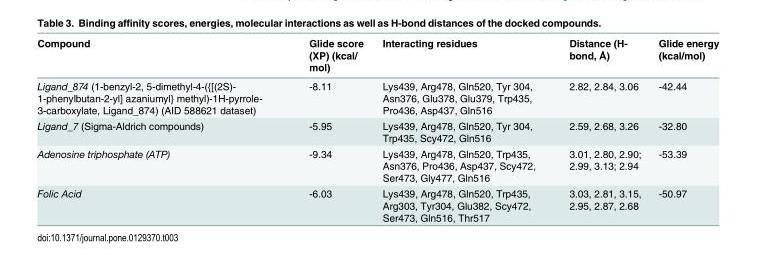table: (36, 36, 718, 222)
table column: (36, 36, 284, 222), (372, 36, 551, 222), (551, 36, 649, 222), (284, 36, 372, 222), (649, 36, 718, 222)
table column header: (36, 36, 718, 76)
table row: (36, 76, 718, 117), (36, 36, 718, 76), (36, 145, 718, 185), (36, 185, 718, 222), (36, 117, 718, 145)
